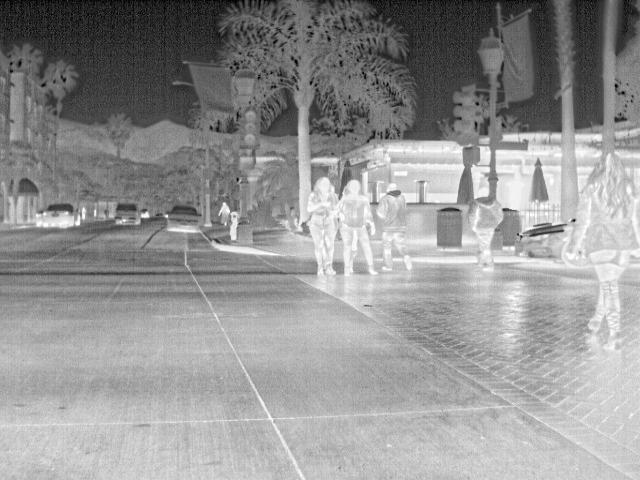car: (515, 218, 576, 260), (161, 204, 203, 236), (38, 204, 82, 232), (114, 202, 142, 230), (138, 208, 151, 221)
person: (575, 151, 638, 348), (330, 179, 378, 279), (374, 183, 416, 274), (465, 182, 506, 271), (302, 177, 338, 278), (218, 200, 232, 227)
